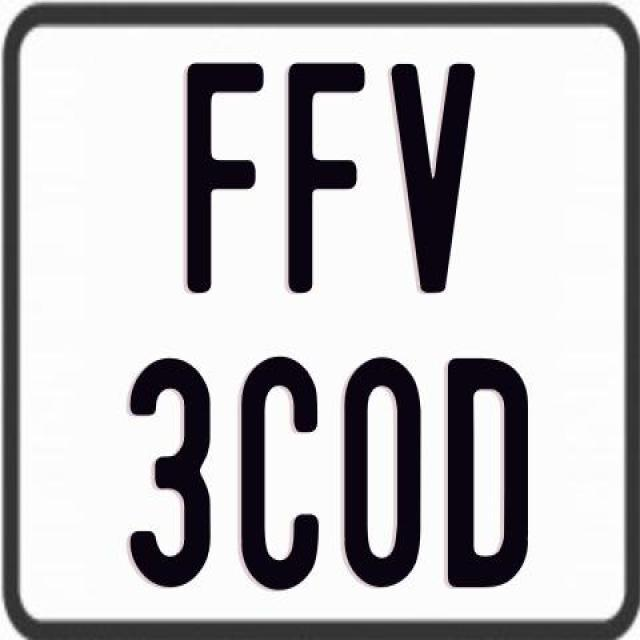0: (341, 352, 418, 589)
3: (127, 353, 210, 592)
C: (237, 354, 316, 594)
D: (444, 355, 528, 584)
F: (186, 59, 272, 290), (286, 58, 370, 290)
V: (391, 59, 478, 290)
